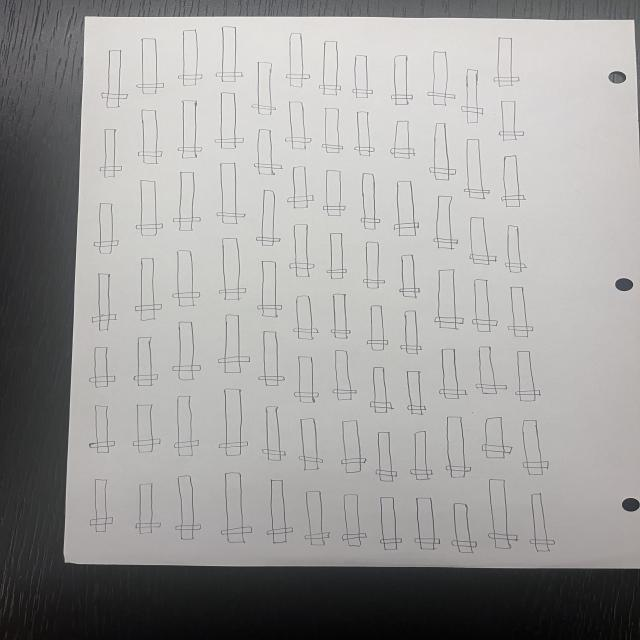Slider: (214, 386, 253, 459), (219, 472, 256, 546), (210, 235, 250, 303), (486, 478, 521, 553), (458, 133, 493, 203), (96, 43, 130, 115), (133, 32, 167, 104), (438, 412, 473, 481), (263, 479, 296, 550), (528, 490, 564, 555), (432, 265, 467, 331), (420, 47, 457, 109), (78, 404, 122, 456), (128, 255, 161, 323), (173, 473, 205, 542), (210, 91, 246, 152), (331, 418, 370, 474), (210, 26, 243, 92), (516, 411, 548, 478), (129, 176, 164, 236), (470, 275, 505, 335), (176, 97, 208, 162), (278, 26, 310, 90), (130, 476, 162, 540), (495, 153, 531, 209), (216, 162, 247, 227), (86, 273, 119, 333), (169, 249, 203, 307), (472, 340, 506, 398), (286, 221, 317, 284), (170, 318, 201, 381), (508, 283, 540, 344), (445, 501, 481, 555), (252, 186, 282, 250), (218, 314, 250, 374), (171, 396, 201, 460), (293, 414, 323, 478), (129, 399, 162, 457), (336, 492, 369, 550), (298, 489, 329, 550), (428, 120, 458, 183), (428, 191, 460, 250), (384, 52, 414, 114), (432, 346, 467, 399), (175, 25, 203, 91), (174, 171, 202, 236), (254, 257, 282, 322), (411, 493, 440, 555), (344, 49, 376, 105), (354, 172, 384, 231), (90, 200, 124, 252), (514, 350, 546, 405), (130, 335, 162, 390), (136, 108, 166, 166), (391, 177, 420, 237), (392, 250, 423, 305), (358, 239, 390, 292), (492, 98, 528, 145), (252, 128, 285, 179), (491, 34, 521, 90), (258, 330, 286, 390), (290, 354, 323, 404), (477, 413, 511, 461), (282, 99, 313, 151), (466, 217, 498, 267), (288, 294, 320, 344), (260, 404, 287, 463), (87, 479, 114, 538), (460, 64, 485, 127), (376, 494, 402, 554), (96, 125, 124, 180), (360, 300, 389, 352), (374, 426, 400, 484), (252, 59, 276, 121), (398, 368, 429, 416), (406, 429, 434, 482), (320, 30, 340, 104), (317, 105, 346, 156), (502, 223, 529, 277), (330, 345, 356, 401), (366, 362, 393, 414), (322, 164, 346, 222), (396, 306, 422, 358), (91, 342, 117, 394), (286, 166, 316, 211), (352, 108, 378, 159), (389, 117, 417, 163), (325, 229, 348, 282), (325, 294, 352, 338)
